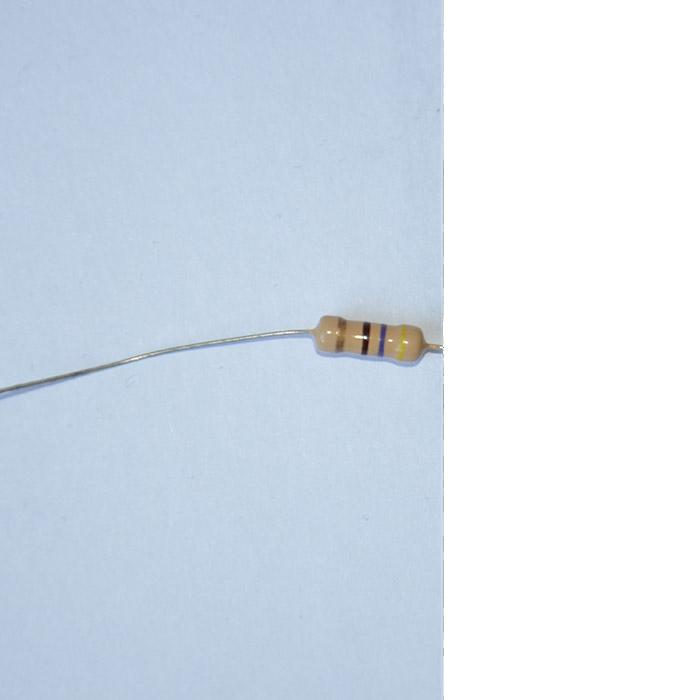resistor: (311, 315, 434, 362)
